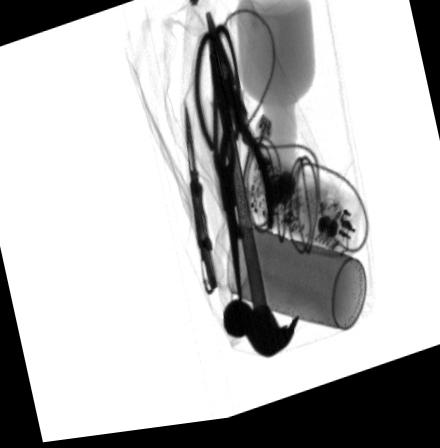Hammer: (217, 126, 299, 365)
Knife: (182, 103, 218, 303)
Pliers: (203, 14, 272, 245)
Scissors: (191, 29, 243, 308)
